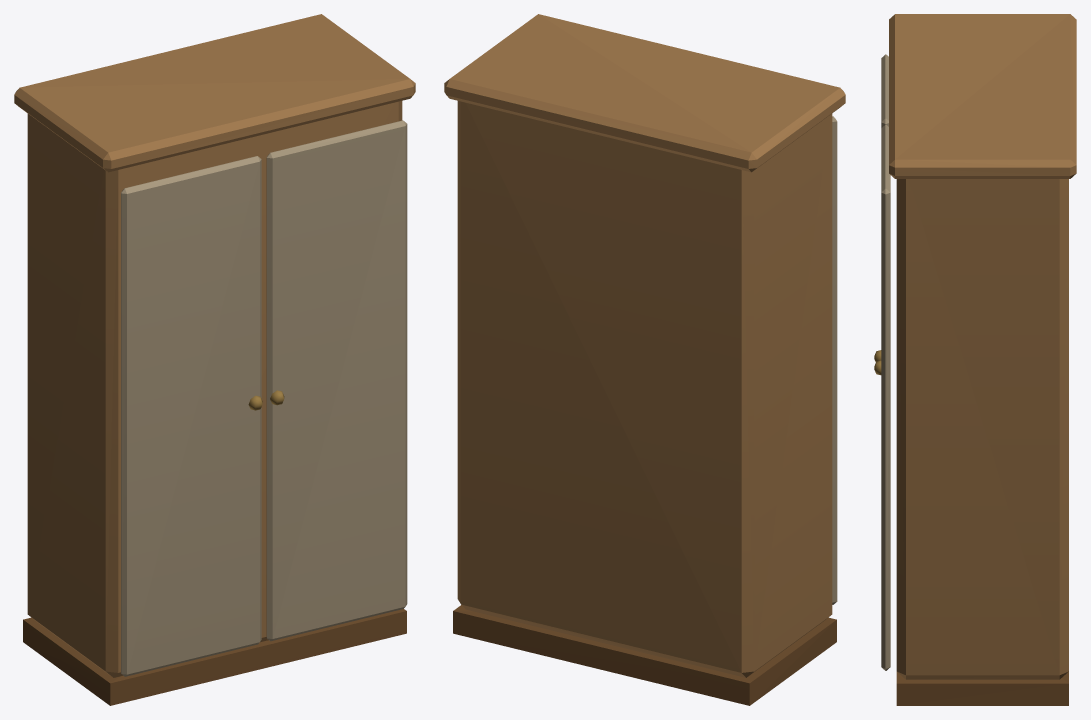
Rendered from wardrobe.glb.
3 views of the same model, side by side, from view 1: azimuth 30°, elevation 25°; view 2: azimuth 150°, elevation 25°; view 3: azimuth 270°, elevation 25° (orthographic).
Parts seen in each view (by area): view 1: wardrobe; view 2: wardrobe; view 3: wardrobe.
Part boxes in pixels (x1,y1,x2,y2): wardrobe: (14,14,415,705); wardrobe: (444,14,845,705); wardrobe: (874,14,1076,705).
Bounding box in the file's own units: 1.16 × 1.97 × 0.6575.
